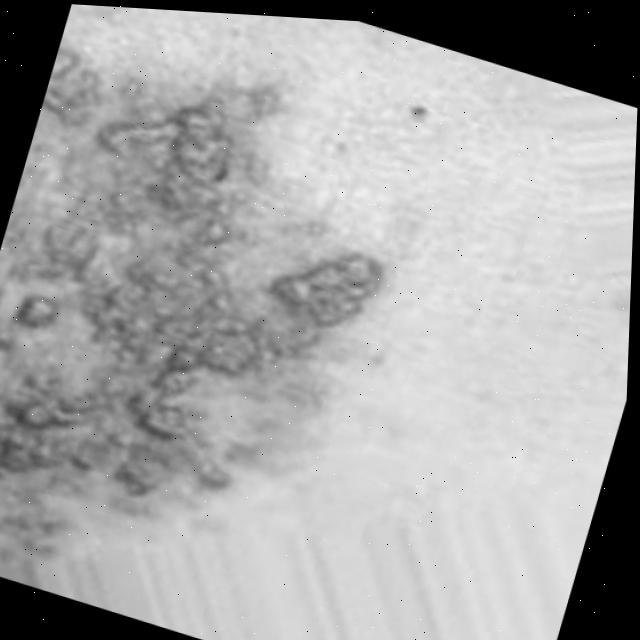Shingles: (0, 14, 434, 600)
